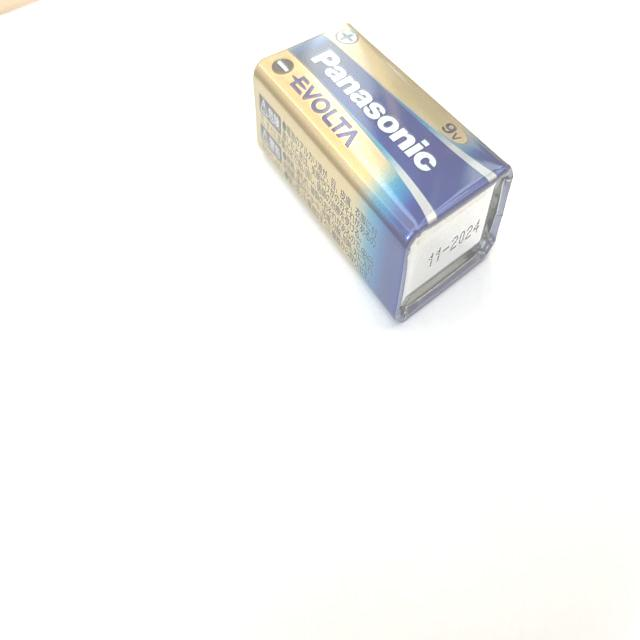9V: (253, 22, 515, 323)
